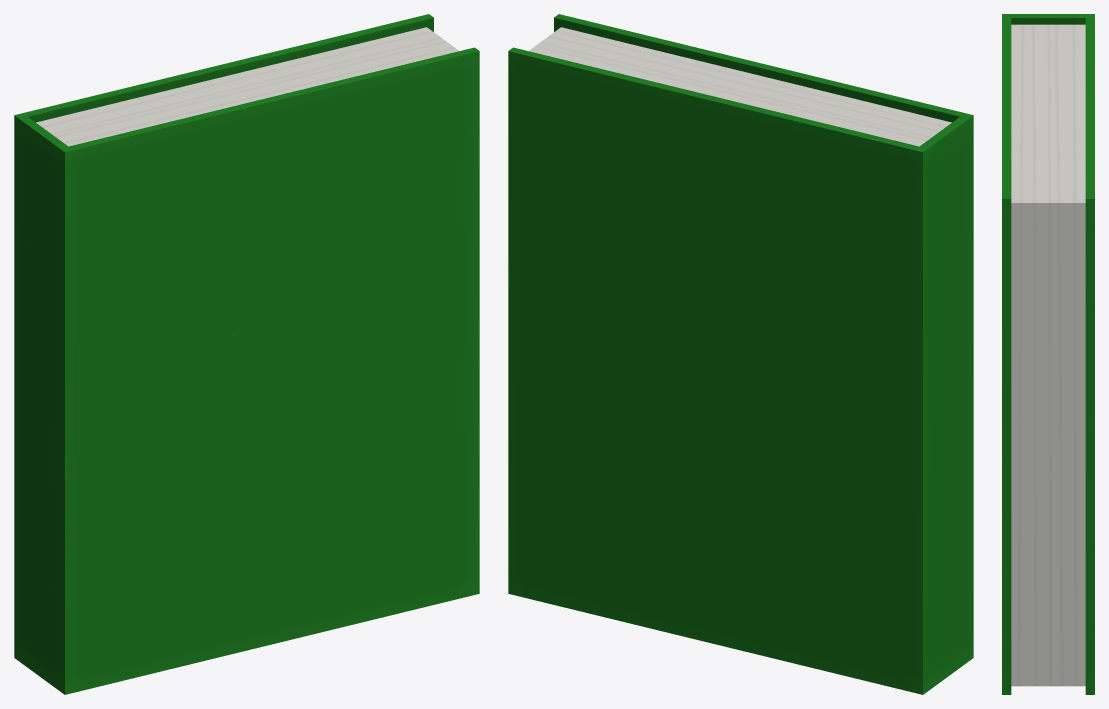
The model's file is Book.fbx.
3 views of the same model, side by side, from view 1: azimuth 30°, elevation 25°; view 2: azimuth 150°, elevation 25°; view 3: azimuth 270°, elevation 25° (orthographic). The views are drawn at different scales.
Visible parts, largest first — view 1: Book; view 2: Book; view 3: Book.
Boxes of the visible parts, <box> form: Book: <box>14,14,479,694</box>; Book: <box>508,14,973,694</box>; Book: <box>1002,14,1094,694</box>.
Size of the model in its own units: 8.54 by 10.68 by 1.81.
Materials: 1 (1 with a texture image).
